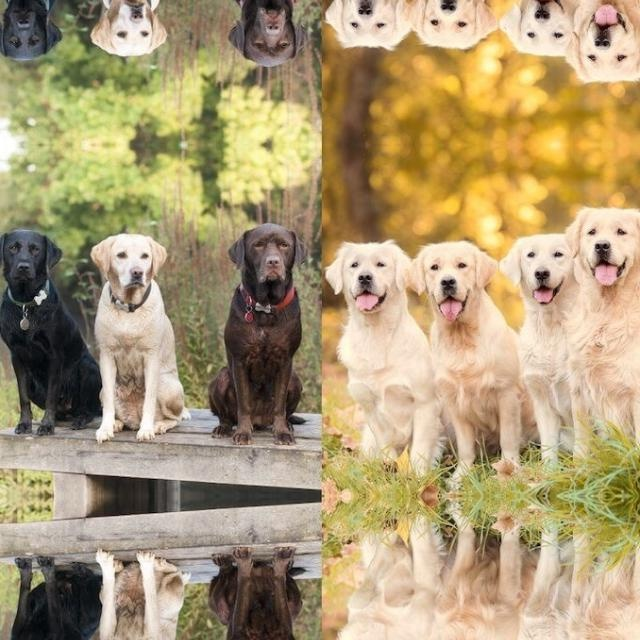dog: (200, 207, 302, 479), (98, 216, 196, 473), (328, 230, 420, 495), (0, 201, 98, 443), (418, 220, 503, 480), (505, 206, 587, 475), (200, 511, 302, 640), (329, 496, 420, 640), (98, 516, 196, 640), (419, 510, 504, 640), (505, 515, 587, 640), (0, 546, 98, 640), (0, 0, 98, 87), (200, 0, 302, 81), (98, 0, 196, 71), (505, 0, 587, 81), (419, 0, 504, 68), (329, 0, 420, 58)
